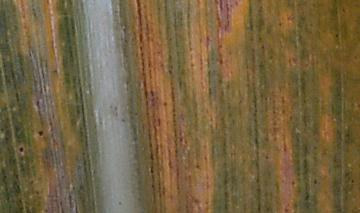tarspot: (17, 145, 25, 153), (38, 129, 45, 137), (312, 178, 318, 185)
